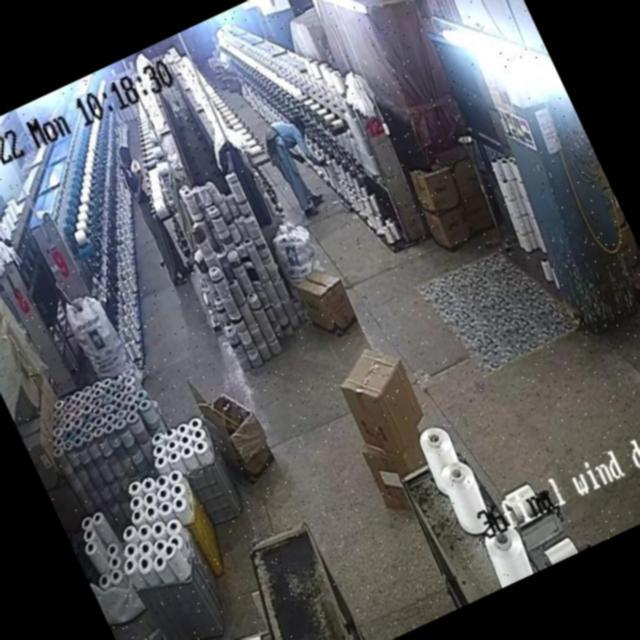person: (113, 144, 192, 284), (262, 108, 338, 222)
